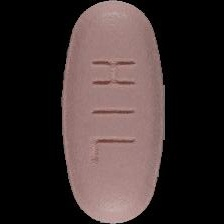0078-0471: (0, 0, 224, 224)
